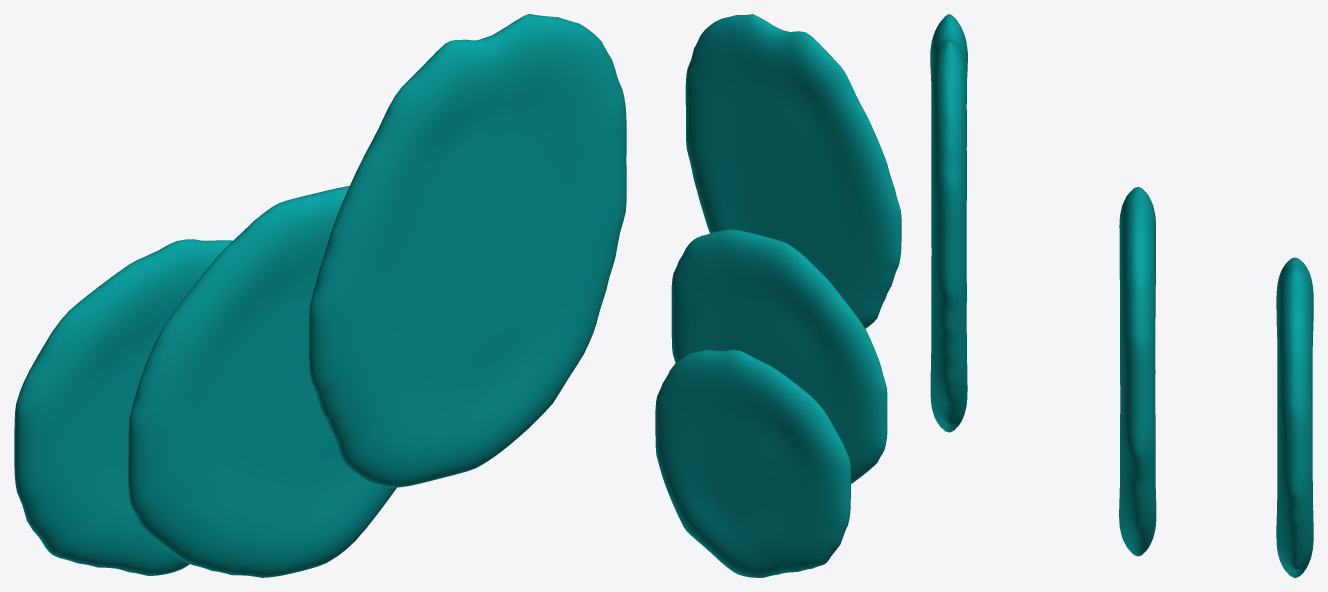
Rendered from abdominal_aorta_blended.glb.
The picture shows the model from 3 angles, left to right: view 1: azimuth 30°, elevation 25°; view 2: azimuth 150°, elevation 25°; view 3: azimuth 270°, elevation 25°; orthographic projection. The views are drawn at different scales.
Parts seen in each view (by area): view 1: Abdominal aorta; view 2: Abdominal aorta; view 3: Abdominal aorta.
Boxes of the visible parts, bbox=[...] form: Abdominal aorta: bbox=[14, 14, 626, 577]; Abdominal aorta: bbox=[655, 14, 901, 577]; Abdominal aorta: bbox=[930, 14, 1313, 577].
Size of the model in its own units: 36.61 by 53.52 by 30.49.
